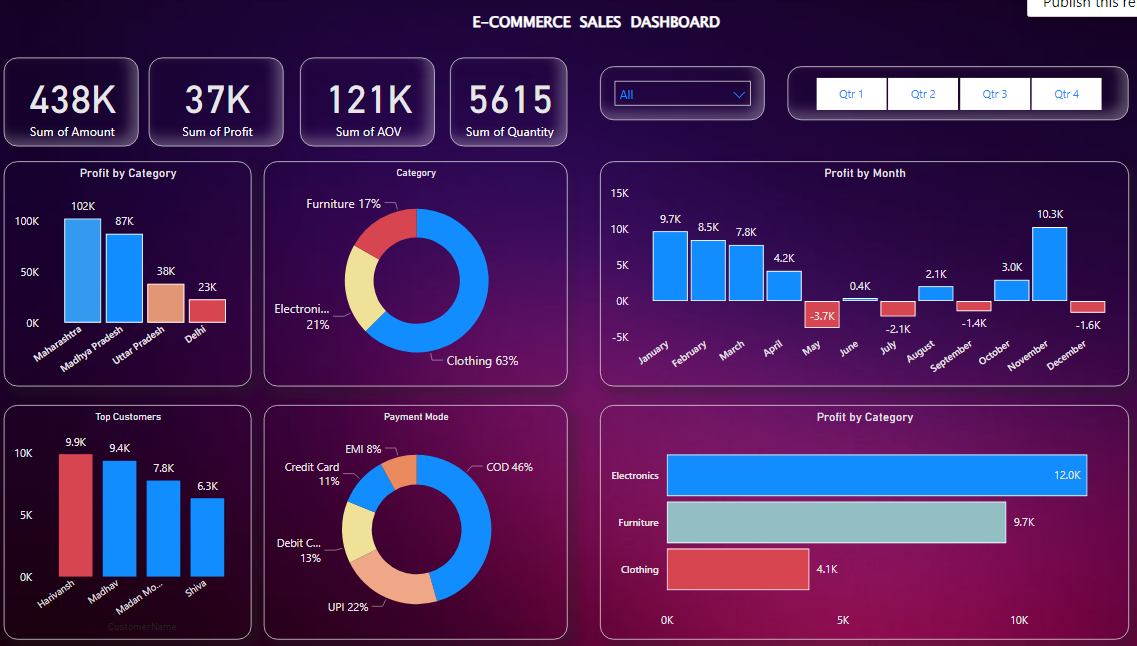

The page's visual inventory and layout, read from the dashboard file:
{"tool":"powerbi","page":{"name":"Page 1","canvas":[1280,720],"ordinal":0},"visuals":[{"type":"textbox","box":[499.5,13,316,36],"z":0},{"type":"columnChart","title":"Profit by Month","fields":{"Category":["Orders.Order Date.Variation.Date Hierarchy.Month"],"Y":["Details.Profit"]},"box":[664.2,182.5,580.4,247],"z":1000},{"type":"clusteredBarChart","title":"Profit by Category","fields":{"Y":["Details.Profit"],"Category":["Details.Category"]},"box":[664.2,450.1,580.4,258],"z":2000},{"type":"donutChart","title":"Payment Mode","fields":{"Category":["Details.PaymentMode"],"Y":["Details.Category"]},"box":[295,450.1,333.4,258],"z":3000},{"type":"donutChart","title":"Category","fields":{"Category":["Details.Category"],"Y":["Details.Quantity"]},"box":[295,182.5,333.4,247],"z":4000},{"type":"card","fields":{"Values":["Details.Amount"]},"box":[9.6,68.6,148.2,97.4],"z":5000},{"type":"card","fields":{"Values":["Details.Quantity"]},"box":[499.5,68.6,129,97.4],"z":6000},{"type":"card","fields":{"Values":["Details.Profit"]},"box":[168.8,68.6,148.2,97.4],"z":7000},{"type":"card","fields":{"Values":["Details.AOV"]},"box":[334.8,68.6,148.2,97.4],"z":8000},{"type":"clusteredColumnChart","title":"Profit by Category","fields":{"Category":["Orders.State"],"Y":["Details.Amount"]},"box":[9.6,182.5,271.7,247],"z":9000},{"type":"clusteredColumnChart","title":"Top Customers","fields":{"Category":["Orders.CustomerName"],"Y":["Details.Amount"]},"box":[9.6,450.1,271.7,258],"z":10000},{"type":"slicer","fields":{"Values":["Orders.Order Date.Variation.Date Hierarchy.Quarter"]},"box":[870,78.2,374.6,59],"z":11000},{"type":"slicer","fields":{"Values":["Orders.State"]},"box":[664.2,78.2,181.1,59],"z":12000}]}

Visuals, with their boxes in screenshot pixels (x1, y1, x2, y2), scaled from the page's 1280x720 canvas onto the 1137x646 screenshot:
textbox: (444, 12, 724, 44)
"Profit by Month" columnChart: (590, 164, 1106, 385)
"Profit by Category" clusteredBarChart: (590, 404, 1106, 635)
"Payment Mode" donutChart: (262, 404, 558, 635)
"Category" donutChart: (262, 164, 558, 385)
card - Details.Amount: (9, 62, 140, 149)
card - Details.Quantity: (444, 62, 558, 149)
card - Details.Profit: (150, 62, 282, 149)
card - Details.AOV: (297, 62, 429, 149)
"Profit by Category" clusteredColumnChart: (9, 164, 250, 385)
"Top Customers" clusteredColumnChart: (9, 404, 250, 635)
slicer - Orders.Order Date.Variation.Date Hierarchy.Quarter: (773, 70, 1106, 123)
slicer - Orders.State: (590, 70, 751, 123)
